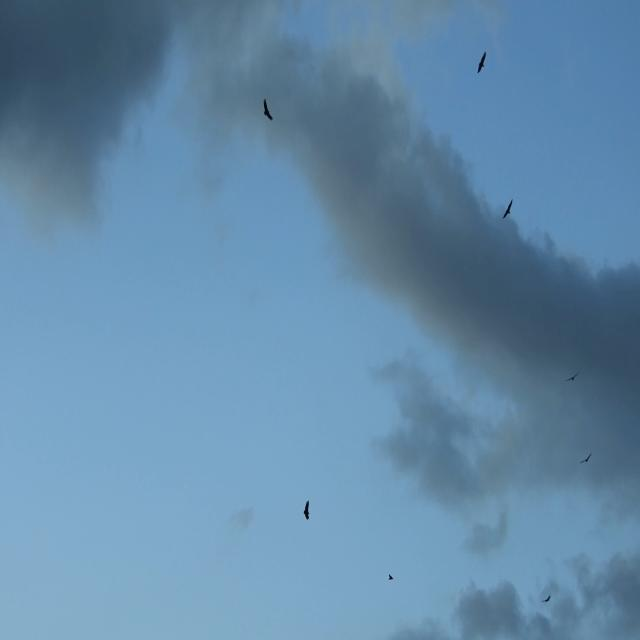bird: (261, 96, 275, 128), (476, 48, 488, 78), (302, 497, 313, 528), (499, 196, 513, 220), (564, 368, 580, 384), (578, 452, 592, 467), (541, 593, 552, 605), (387, 571, 394, 582)
